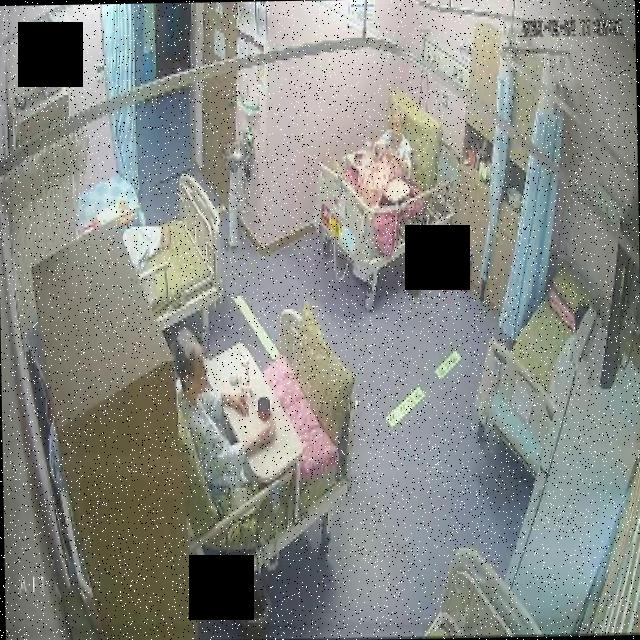bed: (174, 309, 360, 577), (300, 112, 456, 304), (472, 274, 594, 478), (123, 170, 225, 332)
patient: (172, 319, 275, 510), (372, 105, 417, 177)
sit: (171, 320, 276, 516), (372, 106, 417, 182)
